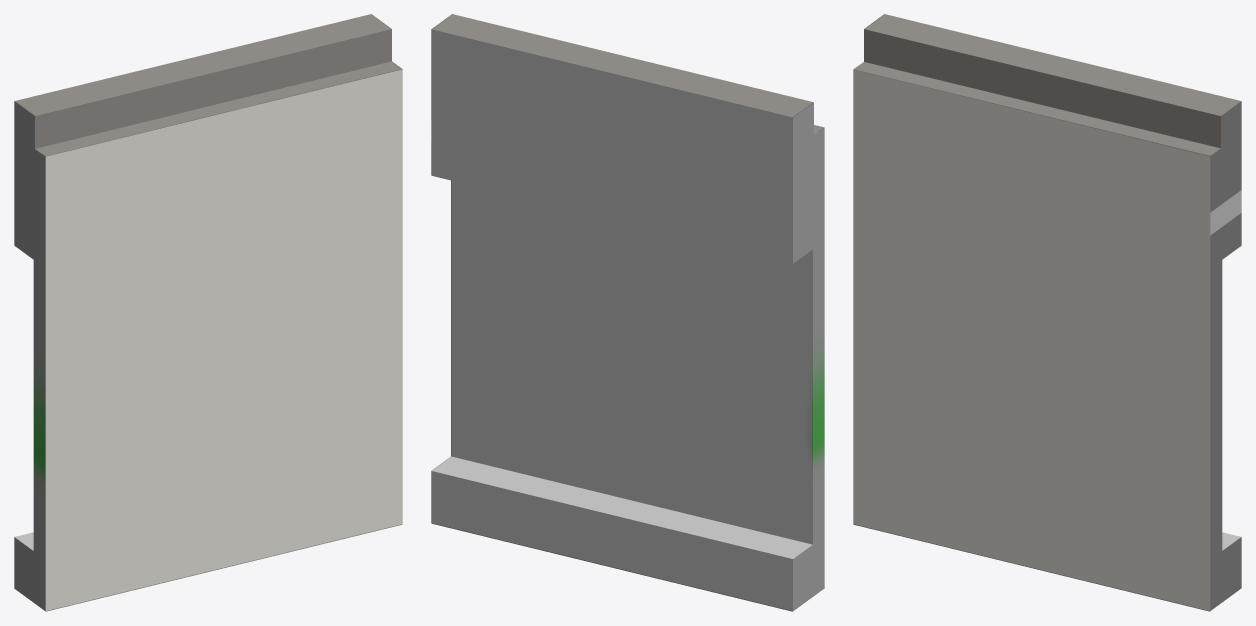
Rendered from Shop_wall_back_type1.FBX.
3 renders of one model, left to right at view 1: azimuth 30°, elevation 25°; view 2: azimuth 150°, elevation 25°; view 3: azimuth 330°, elevation 25°, orthographic.
Parts seen in each view (by area): view 1: Shop_wall_back_type1_004; view 2: Shop_wall_back_type1_004; view 3: Shop_wall_back_type1_004.
Boxes of the visible parts, x1,y1,x2,y2 form: Shop_wall_back_type1_004: [14, 14, 402, 611]; Shop_wall_back_type1_004: [431, 14, 824, 611]; Shop_wall_back_type1_004: [853, 14, 1241, 611].
Size of the model in its own units: 1218 by 1590 by 184.
Materials: 1 (1 with a texture image).
